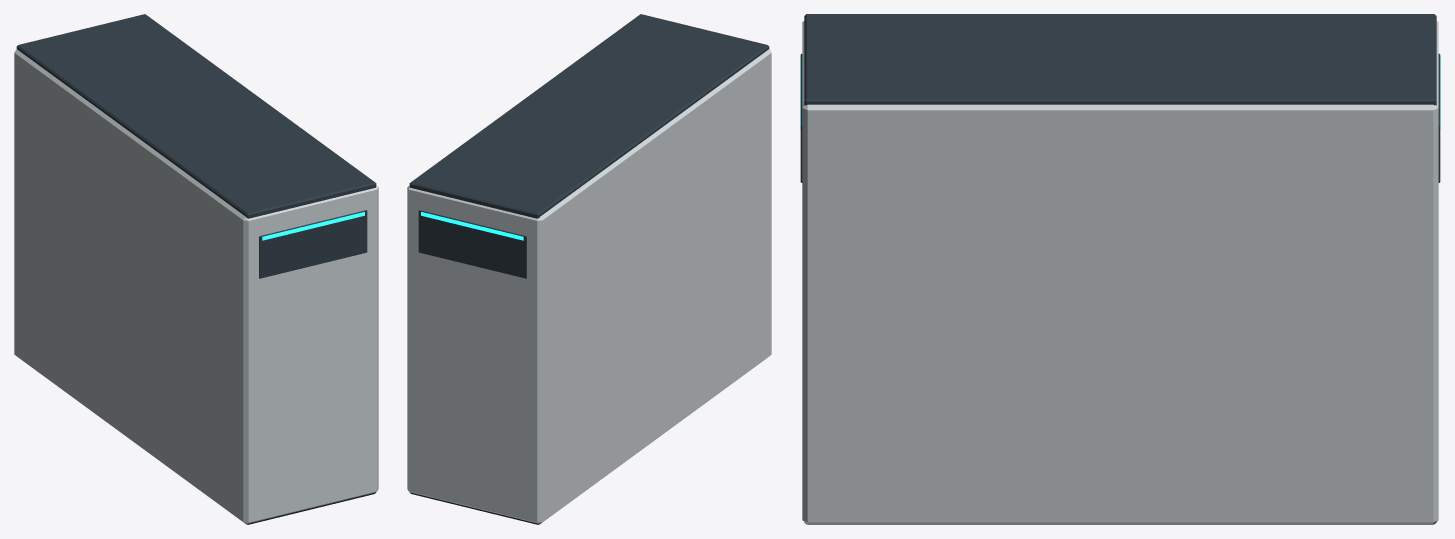
Rendered from SM_TS_HighCover.fbx.
3 views of the same model, side by side, from view 1: azimuth 30°, elevation 25°; view 2: azimuth 150°, elevation 25°; view 3: azimuth 270°, elevation 25° (orthographic). The views are drawn at different scales.
Parts seen in each view (by area): view 1: SM_TS_HighCover; view 2: SM_TS_HighCover; view 3: SM_TS_HighCover.
Part boxes in pixels (x1,y1,x2,y2): SM_TS_HighCover: [14, 14, 378, 524]; SM_TS_HighCover: [407, 14, 771, 524]; SM_TS_HighCover: [800, 14, 1440, 524].
Bounding box in the file's own units: 100 × 300 × 220.
